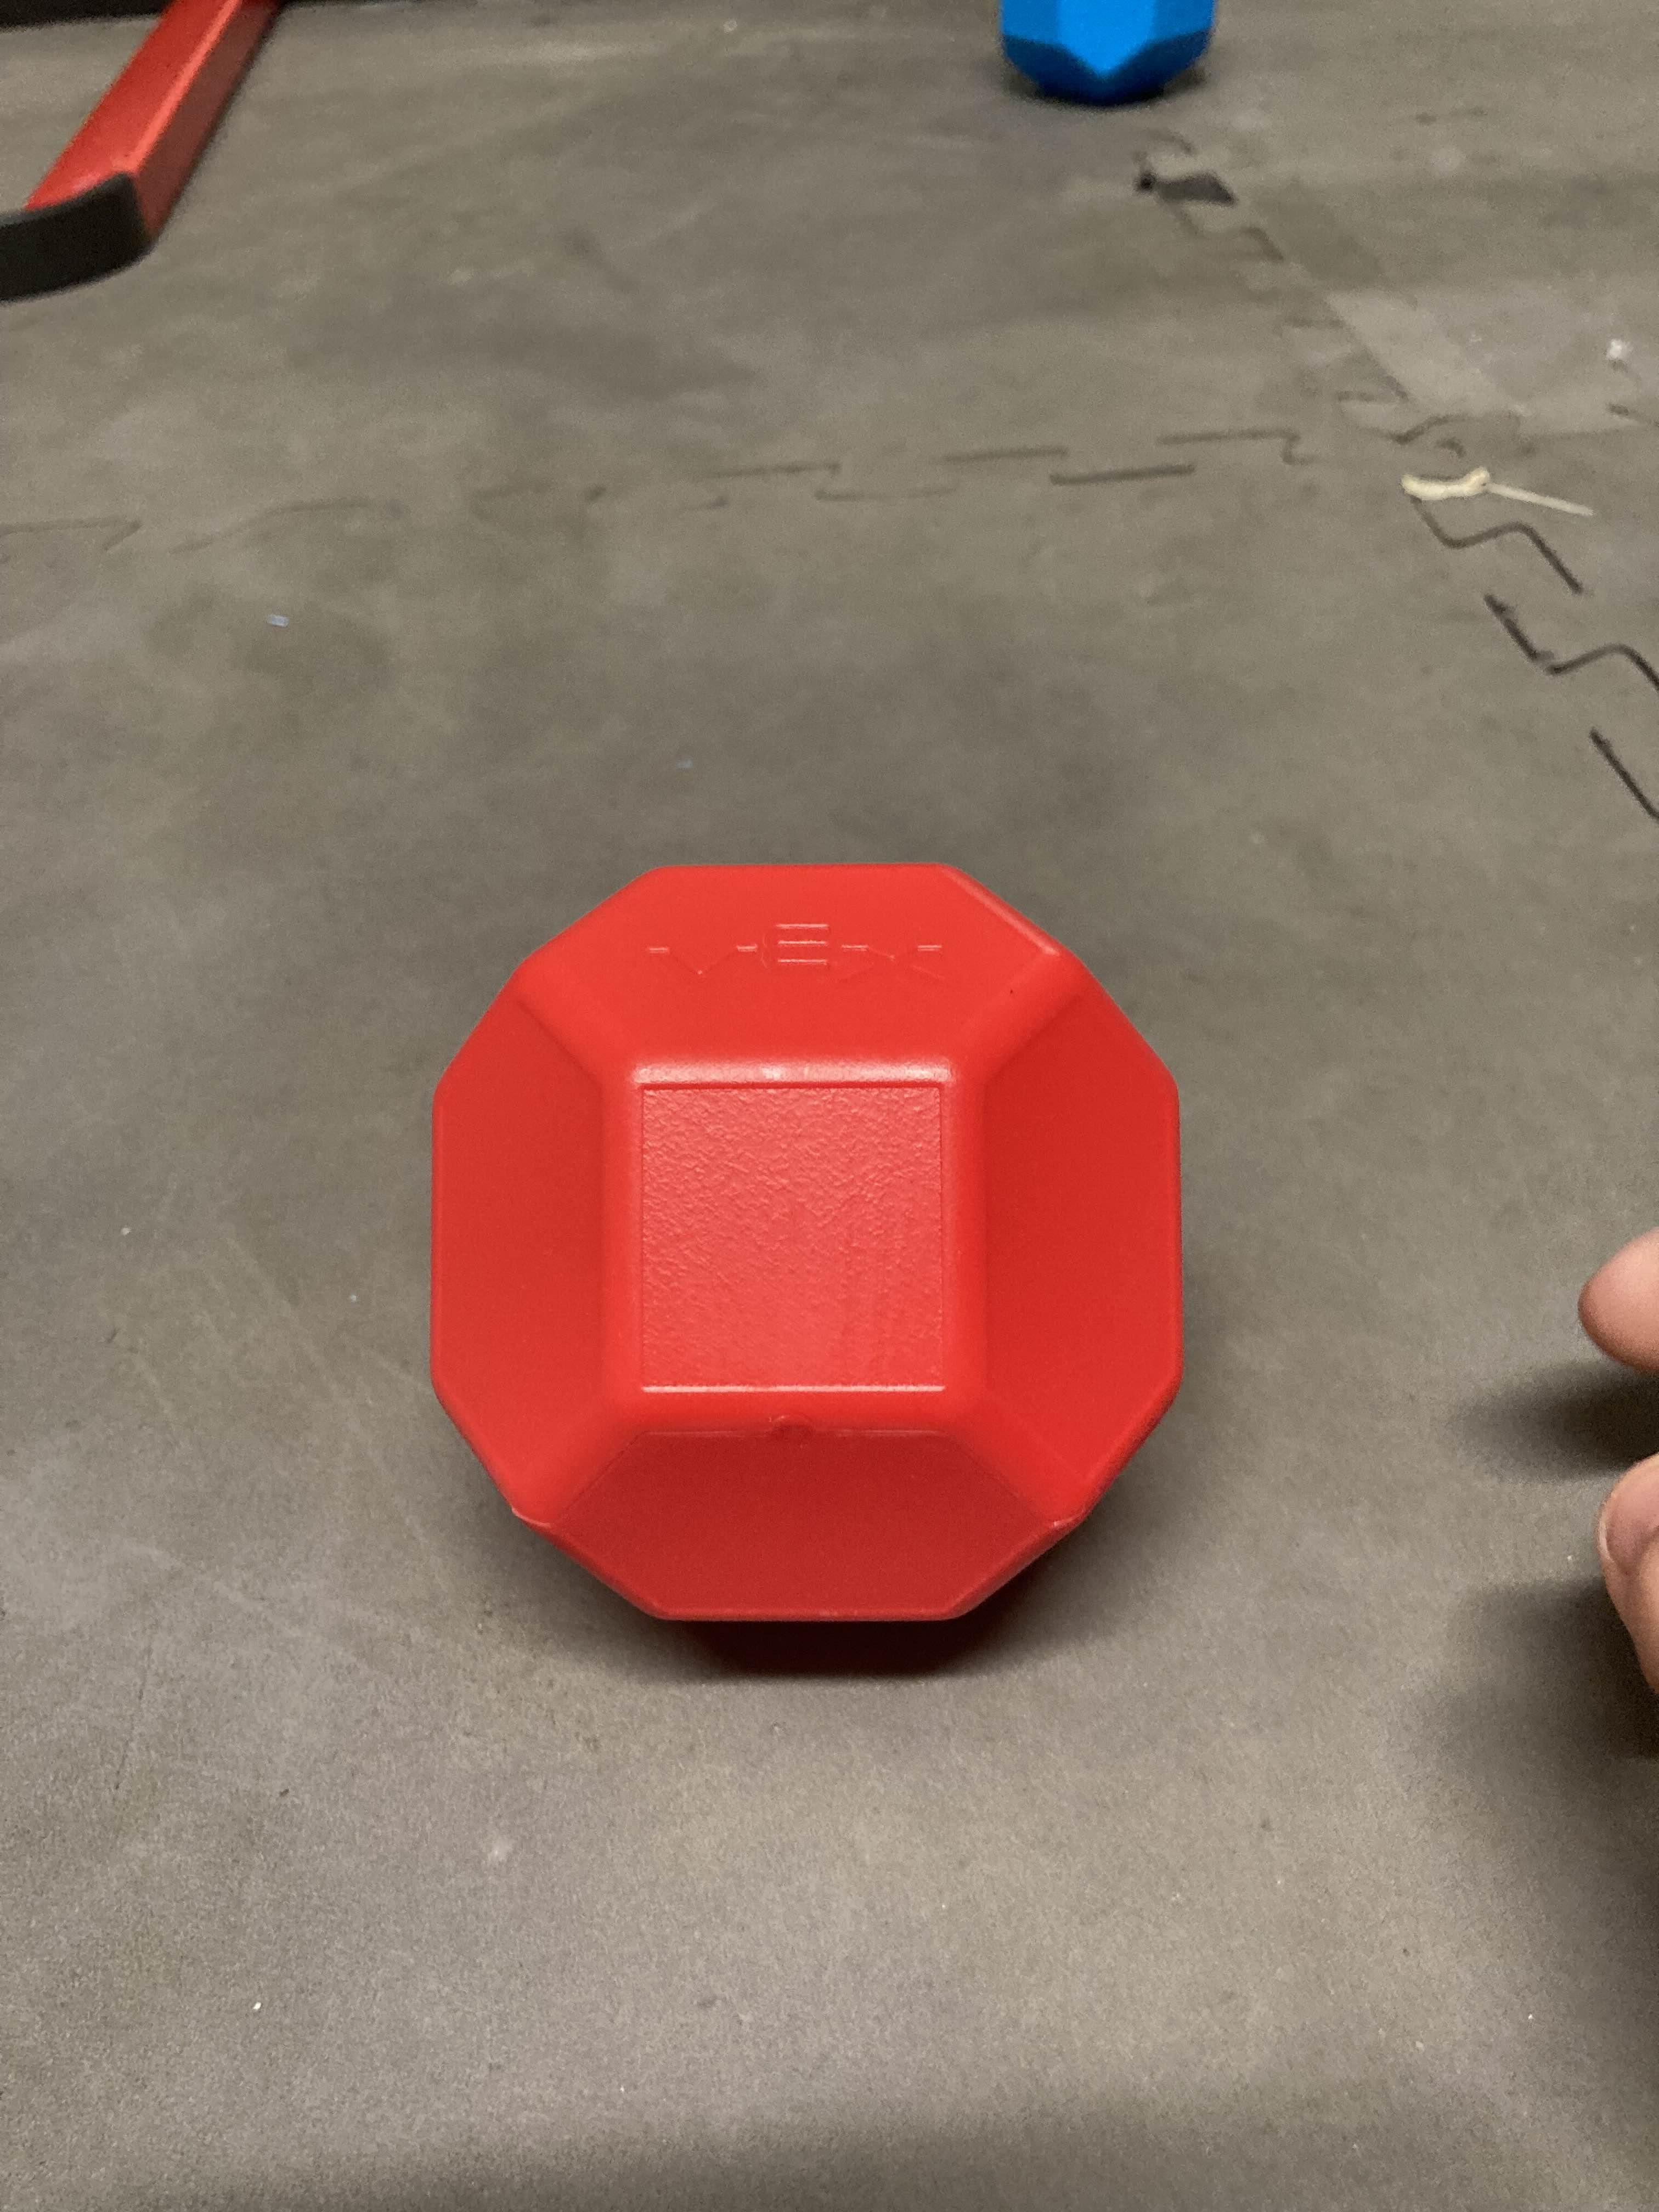Vex-Pieces-RED: (429, 864, 1187, 1637)
